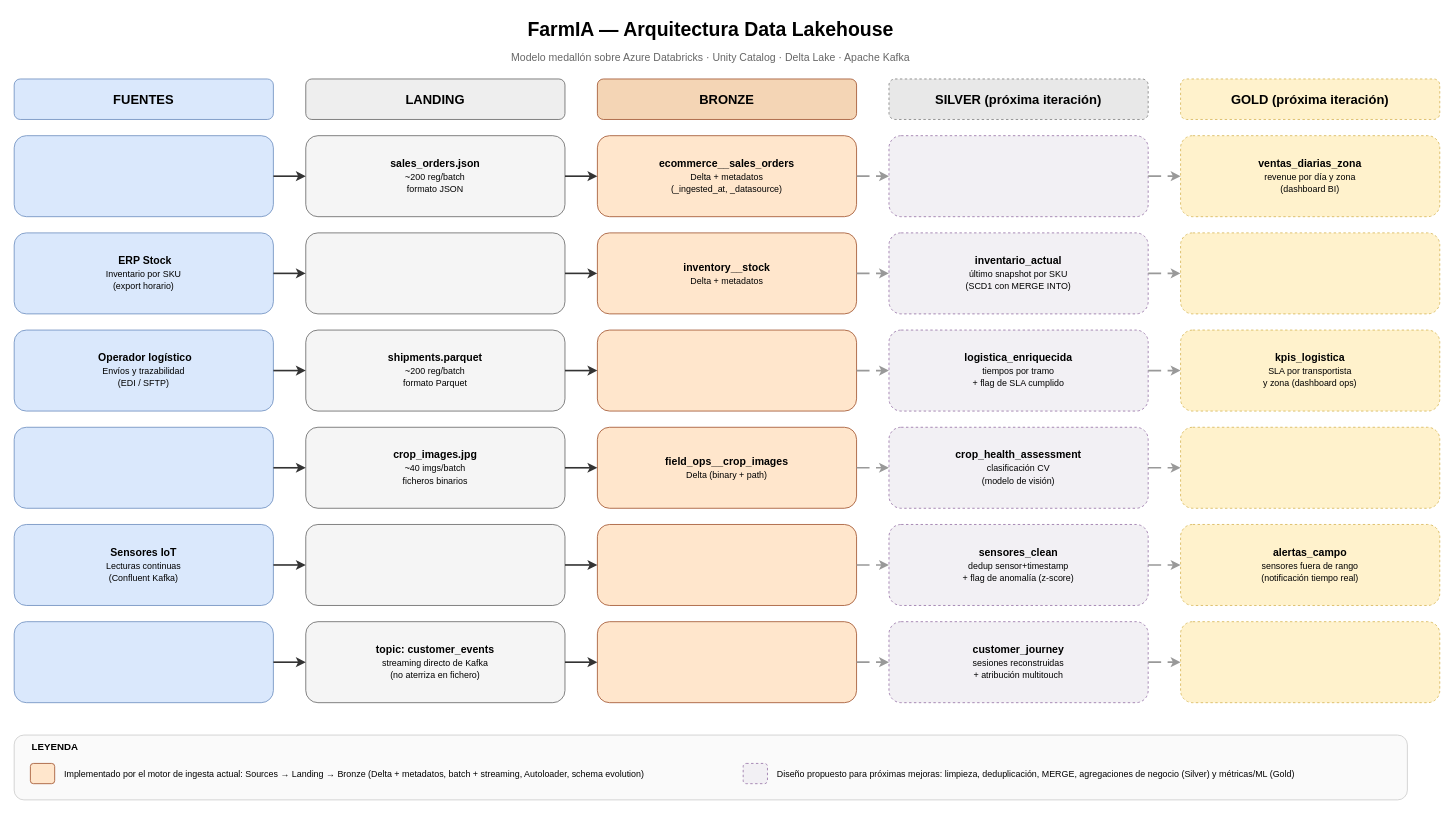
Image size: 1454x814. Some labels were removed from this diagram. Each missing label, with the centre of its shape:
"alertas_stock_minimo SKUs por debajo de umbral (notificación a compras)" belongs at [1310,273].
"App móvil cliente Eventos de uso (Confluent Kafka)" belongs at [143,662].
"Ecommerce Pedidos online B2C (REST API horaria)" belongs at [143,176].
"Field Ops Fotos de cultivo (app móvil agente)" belongs at [143,467].
"funnel_conversion tasas por etapa (dashboard marketing)" belongs at [1310,662].
"iot__sensor_readings Delta particionada por field_zone" belongs at [727,564].
"logistics__shipments Delta + metadatos" belongs at [727,370].
"mobile__customer_events Delta particionada por event_type" belongs at [727,662].
"prediccion_cosecha rendimiento esperado por parcela (modelo ML)" belongs at [1310,467].
"stock.csv ~200 reg/batch formato CSV" belongs at [435,273].
"topic: sensor_readings streaming directo de Kafka (no aterriza en fichero)" belongs at [435,564].
"ventas_enriquecidas join cliente + producto dedup por order_id" belongs at [1018,176].
